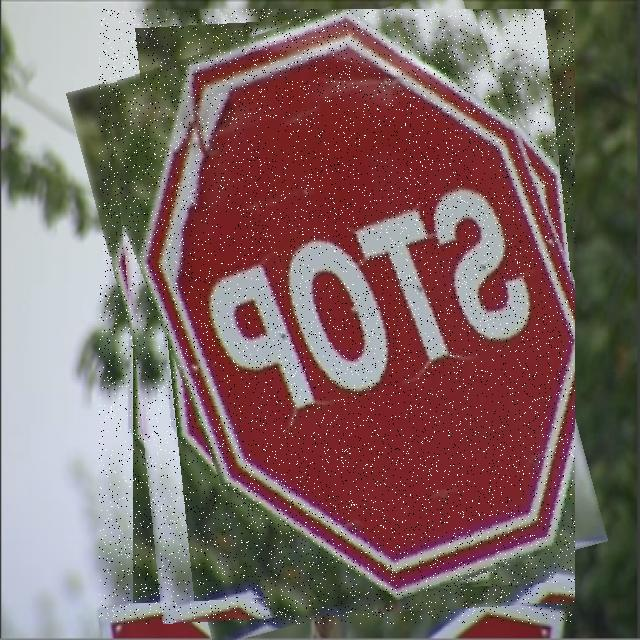stop: (99, 9, 575, 624)
